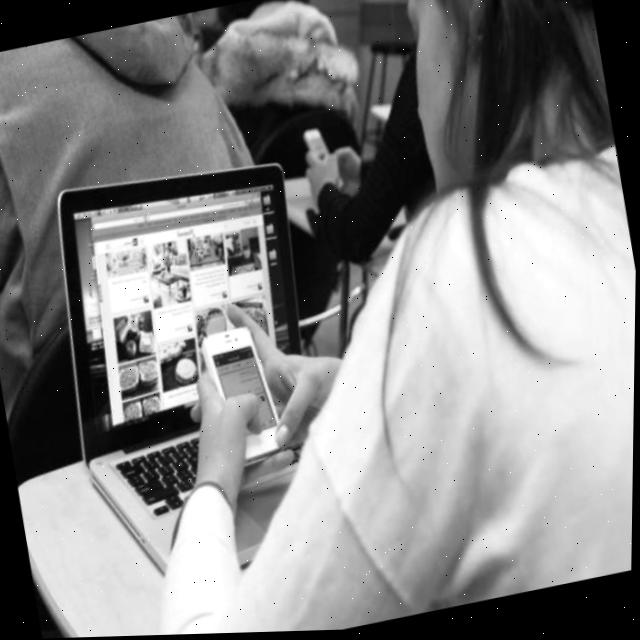phone: (178, 308, 325, 485), (292, 121, 354, 200), (296, 123, 337, 170)
